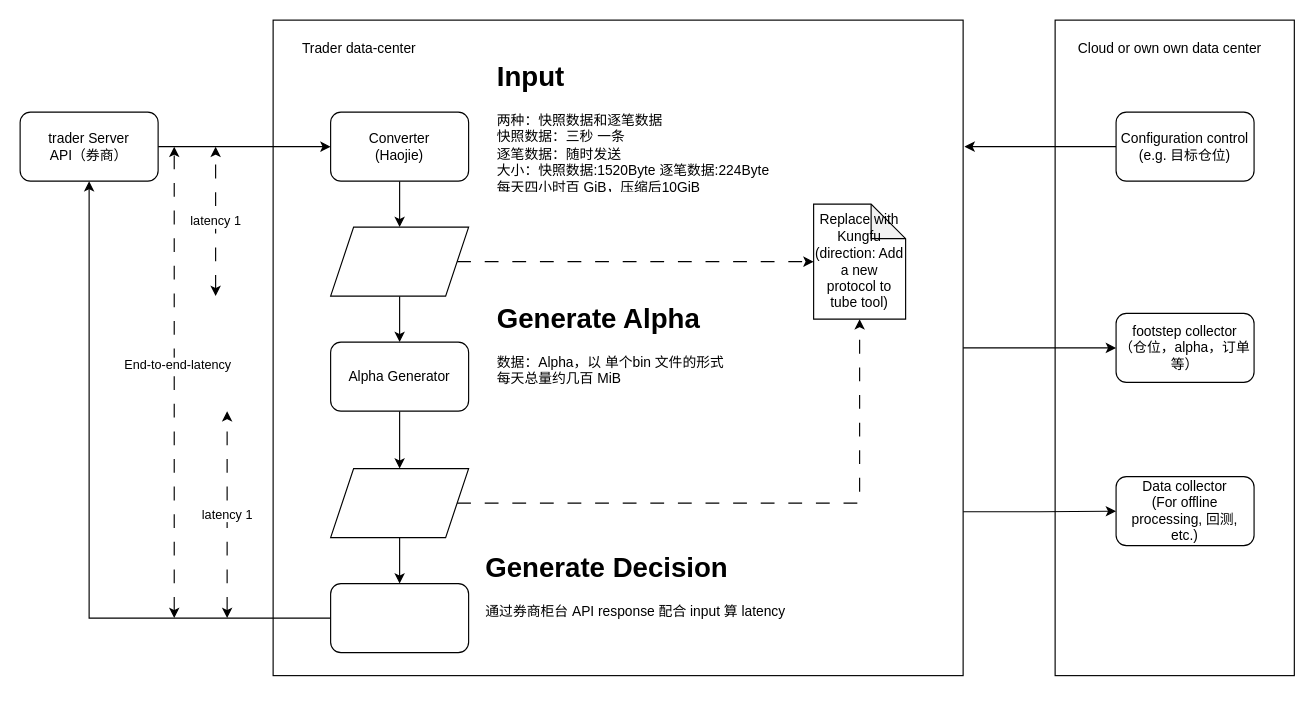
The diagram is 1314 pixels wide and 704 high, and some of its shapes have lost their labels. Each missing label, with the centre of its shape:
Rope: point 399,617
ZeroMQ1: point 399,261
ZeroMQ2: point 399,502
